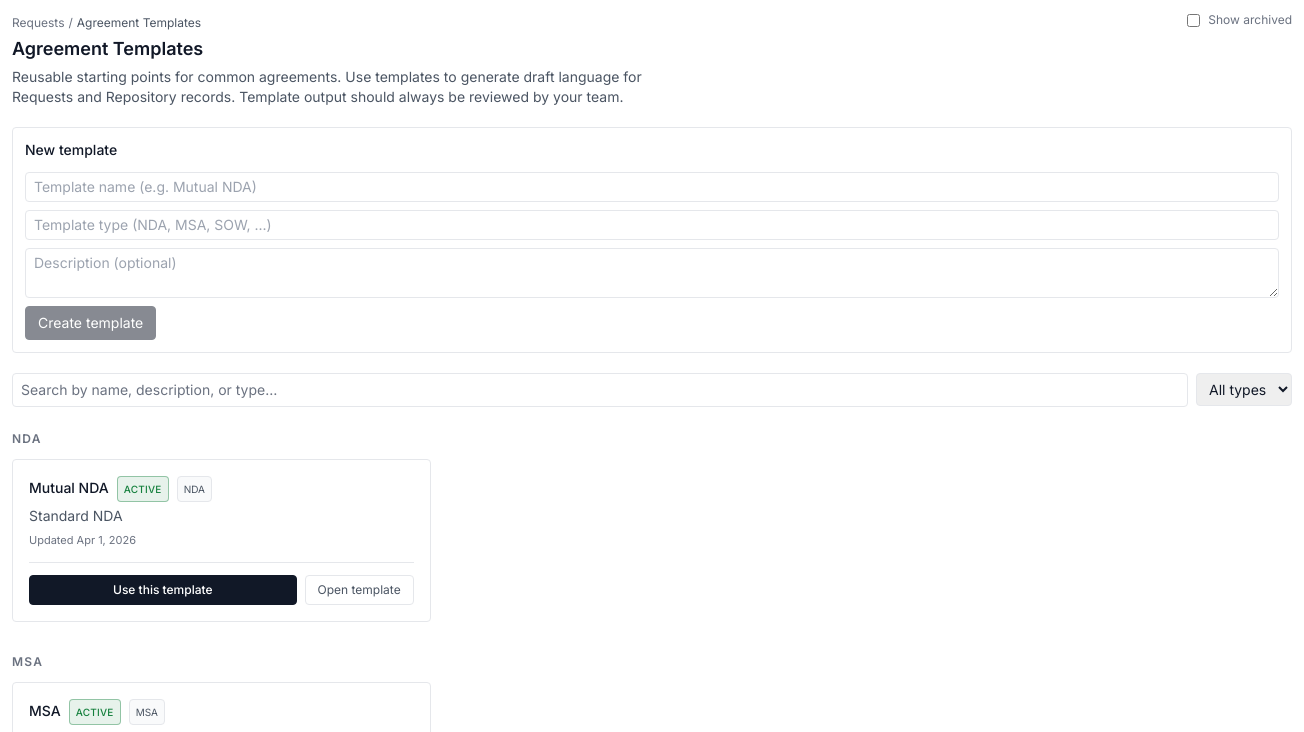
AgreementTemplatesPage › filter by type narrows the catalog
Expected: the text "Mutual NDA" is shown, [29, 478, 109, 498]
Select "NDA" in the dropdown with test id "agreement-templates-filter-type". click: (1244, 390)
box: [1196, 373, 1292, 406]
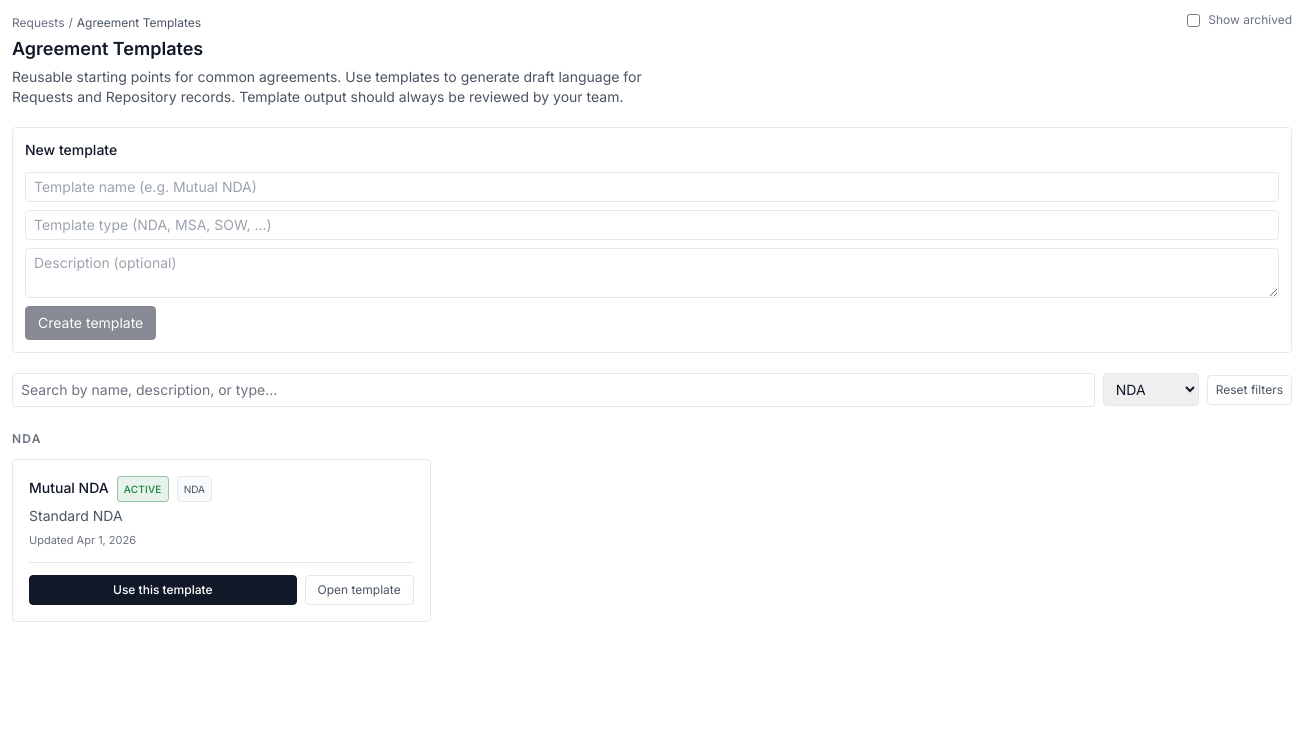
Expected: the text "Mutual NDA" is shown, [29, 478, 109, 498]
Result: the heading with test id "agreement-templates-group-heading" no longer shows "MSA"
